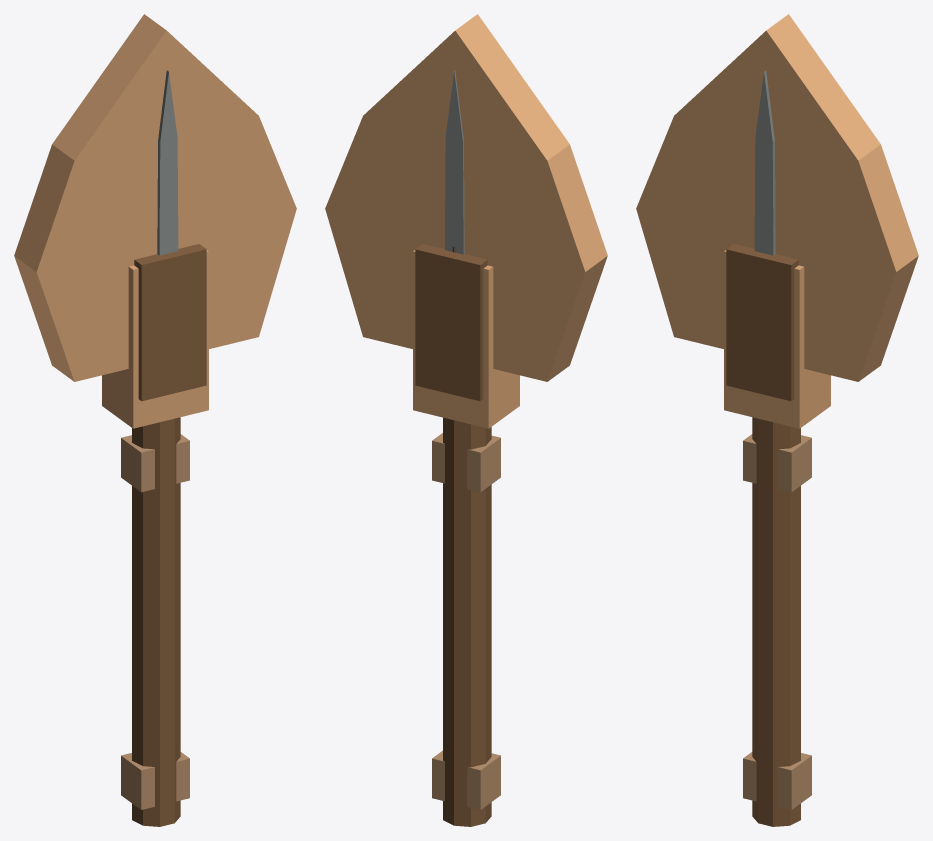
The model's file is copperShovel.glb.
3 renders of one model, left to right at view 1: azimuth 30°, elevation 25°; view 2: azimuth 150°, elevation 25°; view 3: azimuth 330°, elevation 25°, orthographic.
Parts seen in each view (by area): view 1: ShovelBlade, Handle, ToolHeadSocket, ShovelSocket, ShovelRidge, GripWrapHigh, GripWrapLow; view 2: ShovelBlade, Handle, ToolHeadSocket, ShovelSocket, ShovelRidge, GripWrapHigh, GripWrapLow; view 3: ShovelBlade, Handle, ToolHeadSocket, ShovelSocket, ShovelRidge, GripWrapHigh, GripWrapLow.
Boxes of the visible parts, x1,y1,x2,y2 form: ShovelBlade: (14, 14, 296, 381); Handle: (132, 417, 180, 826); ToolHeadSocket: (134, 244, 206, 401); ShovelSocket: (102, 250, 208, 428); ShovelRidge: (157, 70, 178, 255); GripWrapHigh: (121, 434, 189, 492); GripWrapLow: (121, 752, 189, 809); ShovelBlade: (325, 14, 607, 381); Handle: (443, 246, 491, 826); ToolHeadSocket: (415, 244, 487, 401); ShovelSocket: (413, 250, 519, 428); ShovelRidge: (445, 70, 464, 254); GripWrapHigh: (432, 433, 500, 492); GripWrapLow: (432, 750, 500, 809); ShovelBlade: (636, 14, 918, 381); Handle: (752, 417, 800, 826); ToolHeadSocket: (726, 244, 798, 401); ShovelSocket: (724, 250, 830, 428); ShovelRidge: (754, 70, 775, 255); GripWrapHigh: (743, 434, 811, 492); GripWrapLow: (743, 752, 811, 809).
Bounding box in the file's own units: 0.48 × 1.4 × 0.12.
